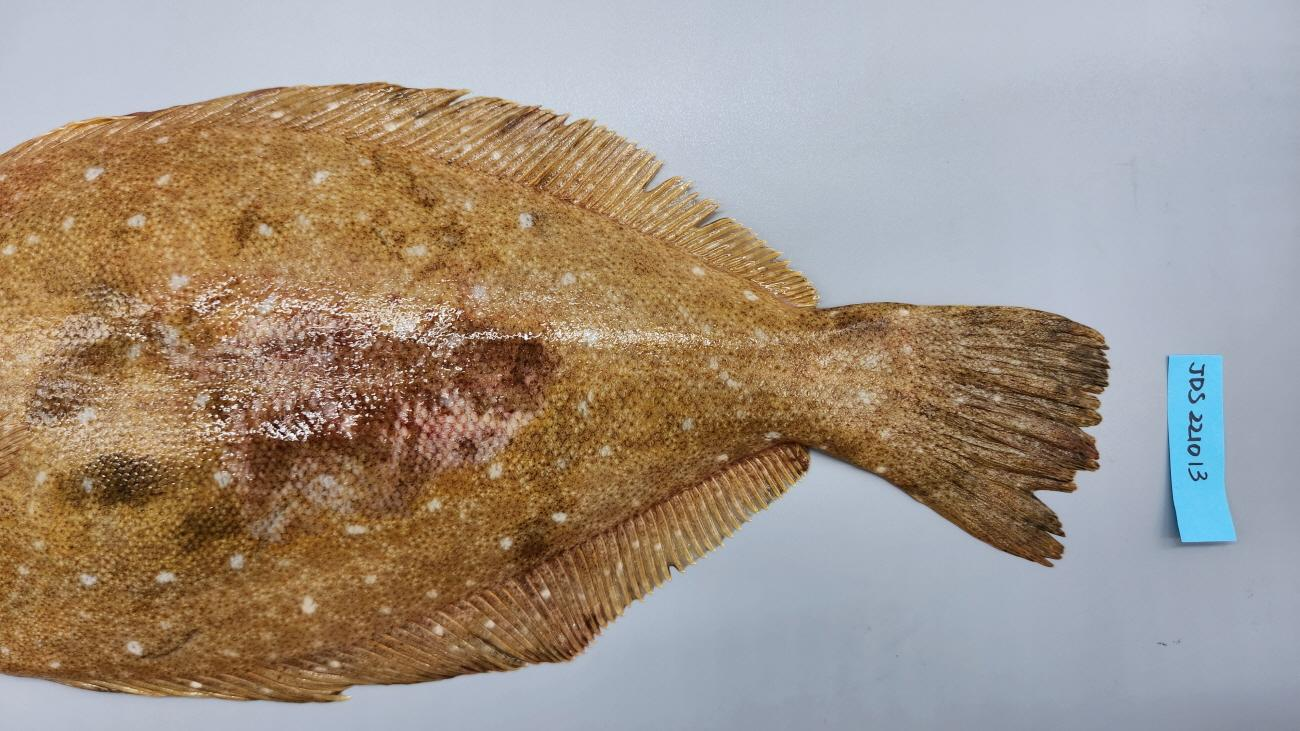POOUN: (0, 82, 1113, 704)
